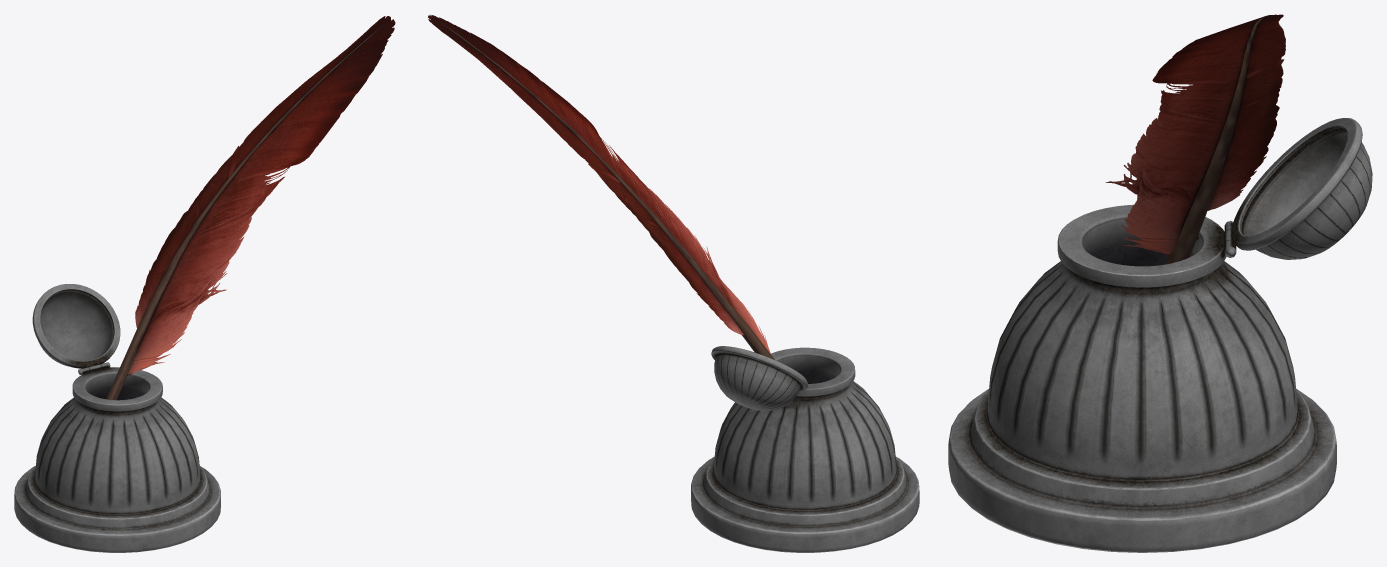
Rendered from Inkwell.fbx.
3 renders of one model, left to right at view 1: azimuth 30°, elevation 25°; view 2: azimuth 150°, elevation 25°; view 3: azimuth 270°, elevation 25°, orthographic. The views are drawn at different scales.
Visible parts, largest first — view 1: Inkwell_2, Feather, Inkwell_3; view 2: Inkwell_2, Feather, Inkwell_3; view 3: Inkwell_2, Feather, Inkwell_3.
Part boxes in pixels (x1,y1,x2,y2): Inkwell_2: [14, 367, 220, 552]; Feather: [106, 16, 395, 400]; Inkwell_3: [32, 284, 120, 368]; Inkwell_2: [691, 347, 919, 552]; Feather: [428, 14, 774, 359]; Inkwell_3: [711, 346, 808, 411]; Inkwell_2: [948, 204, 1336, 552]; Feather: [1105, 14, 1285, 264]; Inkwell_3: [1231, 118, 1372, 259].
Size of the model in its own units: 15.71 by 14.84 by 7.71.
